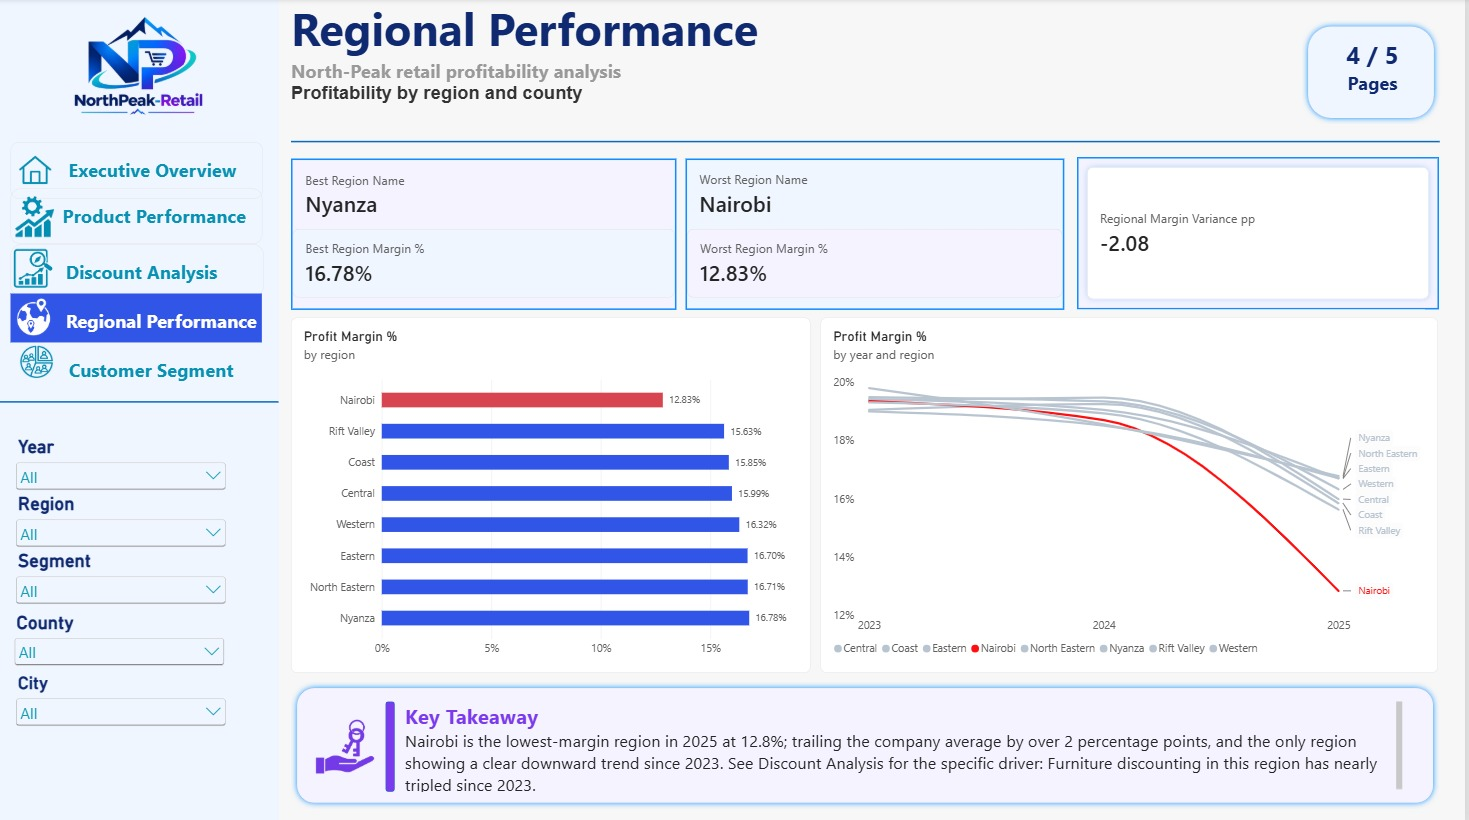

Layout of this report page (visuals, bound fields, positions):
{"tool":"powerbi","page":{"name":"Regional performance","canvas":[1920,1080],"ordinal":3},"visuals":[{"type":"shape","box":[0,0,368.7,1080.7],"z":0},{"type":"image","box":[0,0,368,182],"z":1000},{"type":"slicer","fields":{"Values":["dim_date.year"]},"box":[19.6,572.7,284,76],"z":2000},{"type":"slicer","fields":{"Values":["dim_region.region"]},"box":[19.6,647.2,284,74],"z":3000},{"type":"slicer","fields":{"Values":["dim_customer.segment"]},"box":[19.6,721.8,284,100],"z":4000},{"type":"slicer","fields":{"Values":["dim_region.county"]},"box":[17.7,802.2,284,92],"z":5000},{"type":"slicer","fields":{"Values":["dim_region.city"]},"box":[19.6,882.6,284,74],"z":6000},{"type":"shape","box":[384,164,1502,46],"z":7000},{"type":"shape","box":[383.9,894.9,1501.3,165.8],"z":8000},{"type":"textbox","box":[18,188,330,74],"z":9000},{"type":"textbox","box":[17.7,249.1,329.5,72.6],"z":10000},{"type":"textbox","box":[17.3,321.5,331.4,69.2],"z":11000},{"type":"textbox","box":[17.3,385.8,328.9,64.3],"z":12000},{"type":"textbox","box":[17.3,450.1,331.4,76.7],"z":13000},{"type":"shape","box":[0,502,368,52],"z":14000},{"type":"shape","box":[1706.3,29.4,180.4,135.3],"z":15000},{"type":"textbox","box":[1731.8,51,133.4,96.1],"z":16000},{"type":"shape","box":[508,920,12,118],"z":17000},{"type":"textbox","box":[533.8,919.9,1303.7,118.1],"z":18000},{"type":"image","box":[23.5,449.1,56.9,53],"z":19000},{"type":"image","box":[384.4,894.4,141.2,168.7],"z":20000},{"type":"image","box":[19.6,198.1,60.8,54.9],"z":21000},{"type":"shape","box":[19.6,188.3,327.5,56.9],"z":22000},{"type":"textbox","box":[384.4,0,1292.5,164.7],"z":23000},{"type":"image","box":[7.4,252.3,79.1,64.3],"z":24000},{"type":"shape","box":[17.3,252.3,328.9,64.3],"z":25000},{"type":"cardVisual","fields":{"Data":["fact_sales.Best Region Name","fact_sales.Best Region Margin %"]},"box":[383.9,209,504.2,199.9],"z":26000},{"type":"cardVisual","fields":{"Data":["fact_sales.Worst Region Name","fact_sales.Worst Region Margin %"]},"box":[899.4,209,495.1,199.9],"z":27000},{"type":"cardVisual","fields":{"Data":["fact_sales.Regional Margin Variance pp"]},"box":[1411.4,208.2,473.5,199],"z":28000},{"type":"barChart","fields":{"Category":["dim_region.region"],"Y":["fact_sales.Profit Margin %"]},"box":[384.3,418.6,679.4,464.4],"z":29000},{"type":"lineChart","fields":{"Category":["dim_date.year"],"Series":["dim_region.region"],"Y":["fact_sales.Profit Margin %"]},"box":[1077.4,418.6,807.5,464.4],"z":30000},{"type":"image","box":[11.4,322.5,70.4,63.6],"z":31000},{"type":"image","box":[20.4,386.1,56.8,63.6],"z":32000},{"type":"shape","box":[11.8,319.7,335.4,64.7],"z":33000},{"type":"shape","box":[17.7,451.1,329.5,51],"z":34000}]}

Visuals, with their boxes in screenshot pixels (x1, y1, x2, y2), scaled from the page's 1920x1080 canvas onto the 1469x820 screenshot:
shape: Rect(0, 0, 282, 819)
image: Rect(0, 0, 282, 138)
slicer - dim_date.year: Rect(15, 435, 232, 493)
slicer - dim_region.region: Rect(15, 491, 232, 548)
slicer - dim_customer.segment: Rect(15, 548, 232, 624)
slicer - dim_region.county: Rect(14, 609, 231, 679)
slicer - dim_region.city: Rect(15, 670, 232, 726)
shape: Rect(294, 125, 1443, 159)
shape: Rect(294, 679, 1442, 805)
textbox: Rect(14, 143, 266, 199)
textbox: Rect(14, 189, 266, 244)
textbox: Rect(13, 244, 267, 297)
textbox: Rect(13, 293, 265, 342)
textbox: Rect(13, 342, 267, 400)
shape: Rect(0, 381, 282, 421)
shape: Rect(1305, 22, 1444, 125)
textbox: Rect(1325, 39, 1427, 112)
shape: Rect(389, 699, 398, 788)
textbox: Rect(408, 698, 1406, 788)
image: Rect(18, 341, 62, 381)
image: Rect(294, 679, 402, 807)
image: Rect(15, 150, 62, 192)
shape: Rect(15, 143, 266, 186)
textbox: Rect(294, 0, 1283, 125)
image: Rect(6, 192, 66, 240)
shape: Rect(13, 192, 265, 240)
cardVisual - fact_sales.Best Region Name x fact_sales.Best Region Margin %: Rect(294, 159, 679, 310)
cardVisual - fact_sales.Worst Region Name x fact_sales.Worst Region Margin %: Rect(688, 159, 1067, 310)
cardVisual - fact_sales.Regional Margin Variance pp: Rect(1080, 158, 1442, 309)
barChart - dim_region.region x fact_sales.Profit Margin %: Rect(294, 318, 814, 670)
lineChart - dim_date.year x dim_region.region: Rect(824, 318, 1442, 670)
image: Rect(9, 245, 63, 293)
image: Rect(16, 293, 59, 341)
shape: Rect(9, 243, 266, 292)
shape: Rect(14, 343, 266, 381)
